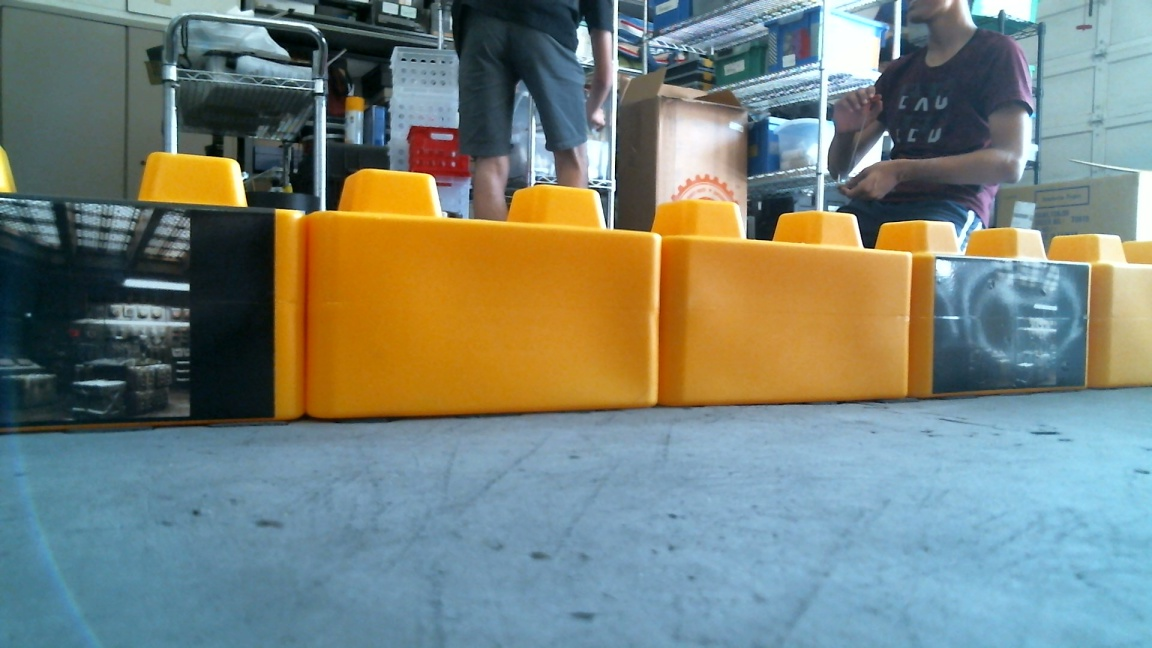left: (8, 202, 919, 445)
right: (304, 168, 1089, 421)
